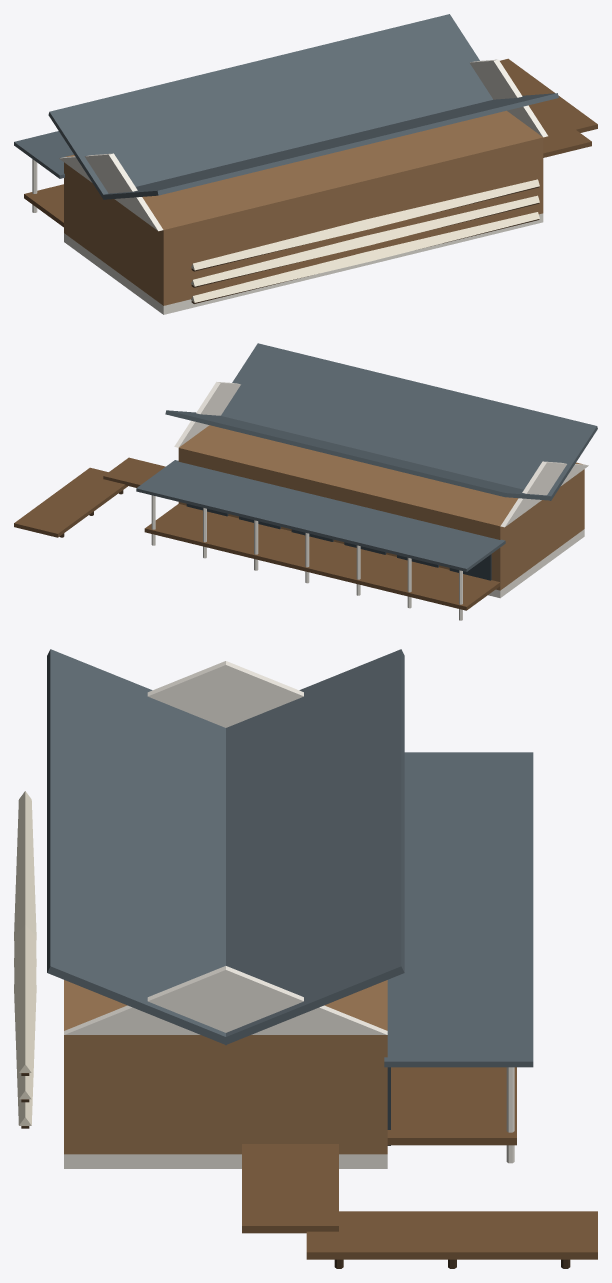
File: cobertizo-remo.glb
3 views of the same model, one above another, from view 1: azimuth 30°, elevation 25°; view 2: azimuth 150°, elevation 25°; view 3: azimuth 270°, elevation 25° (orthographic). The views are drawn at different scales.
Visible parts, largest first — view 1: cobertizo-remo; view 2: cobertizo-remo; view 3: cobertizo-remo.
Part boxes in pixels (bbox=[...]): cobertizo-remo: bbox=[14, 14, 597, 314]; cobertizo-remo: bbox=[14, 343, 597, 620]; cobertizo-remo: bbox=[14, 649, 597, 1268].
Bounding box in the file's own units: 30.1 × 7.19 × 18.05.
